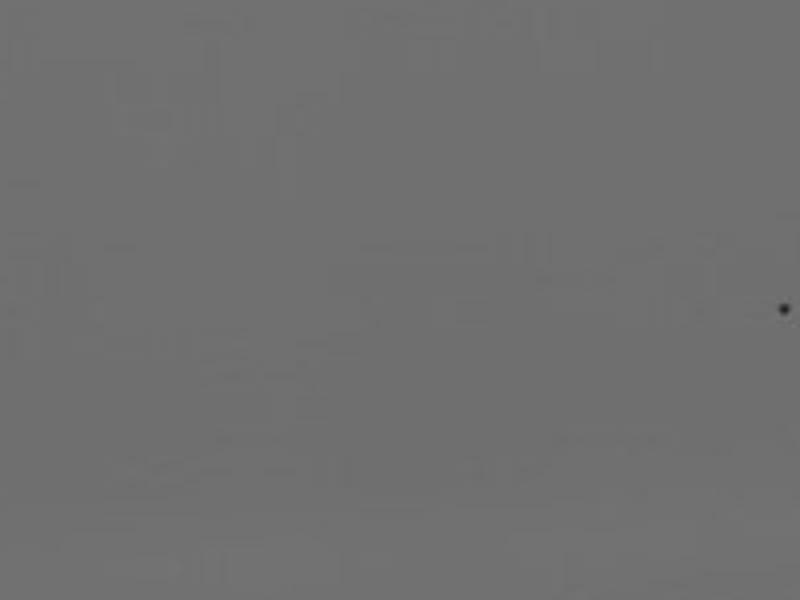defect: (774, 293, 792, 318)
